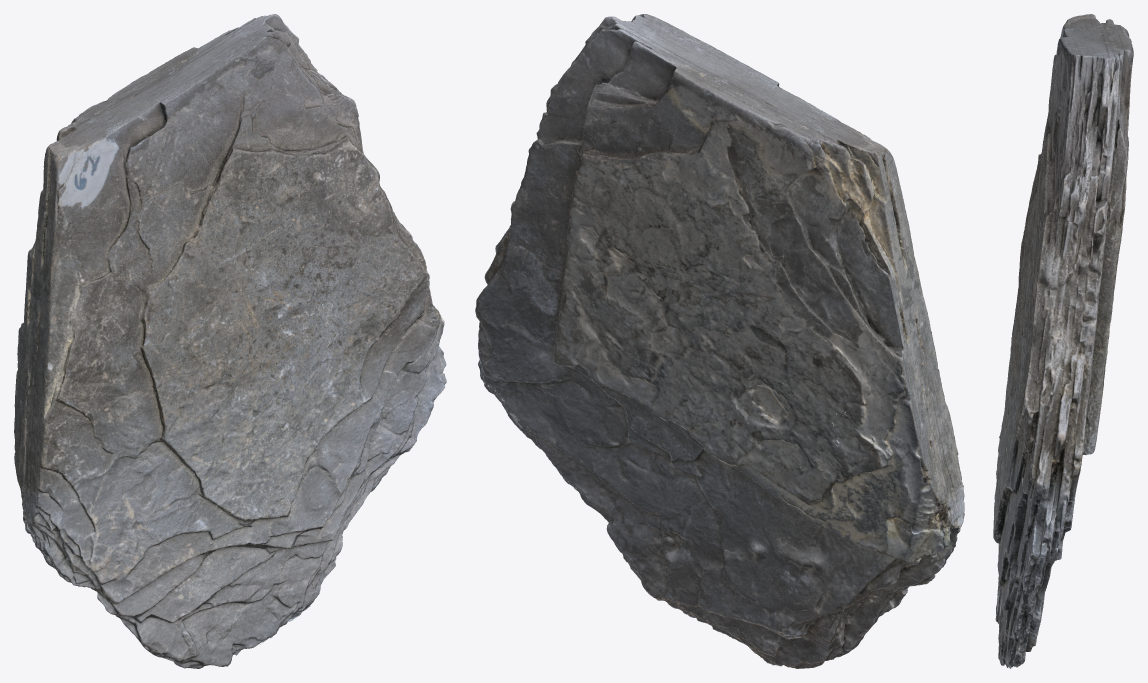
File: sample-08.glb
The picture shows the model from 3 angles, left to right: view 1: azimuth 30°, elevation 25°; view 2: azimuth 150°, elevation 25°; view 3: azimuth 270°, elevation 25°; orthographic projection. The views are drawn at different scales.
Size of the model in its own units: 4.82 by 6.44 by 1.26.
Materials: 1 (1 with a texture image).
